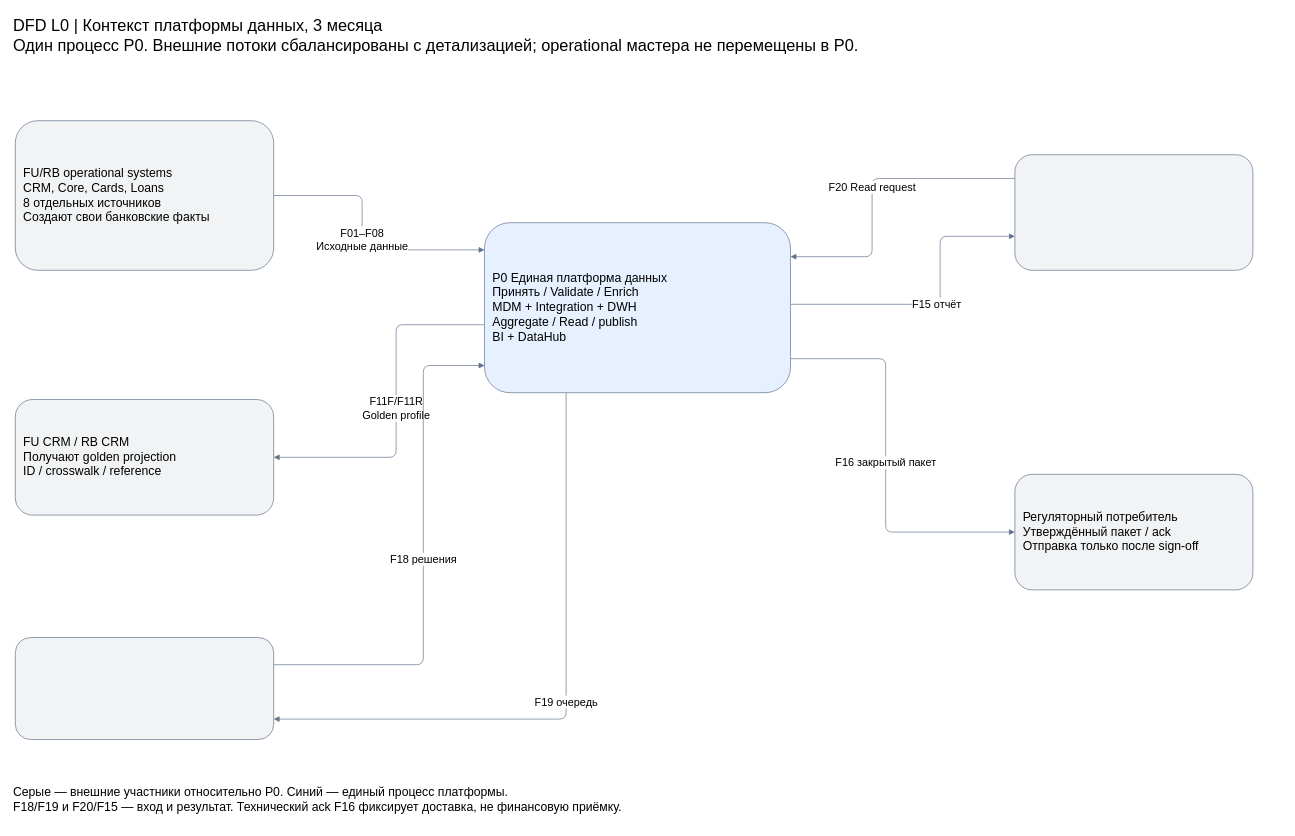
Image size: 1295x836. Some labels were removed from this diagram. Here are the shapes that lost their labels. From the top down, the centre of each, then its label:
pixel 1133 212: Сотрудник банка Запрос / управленческий отчёт
pixel 144 688: Data Steward Решения / reference approval
